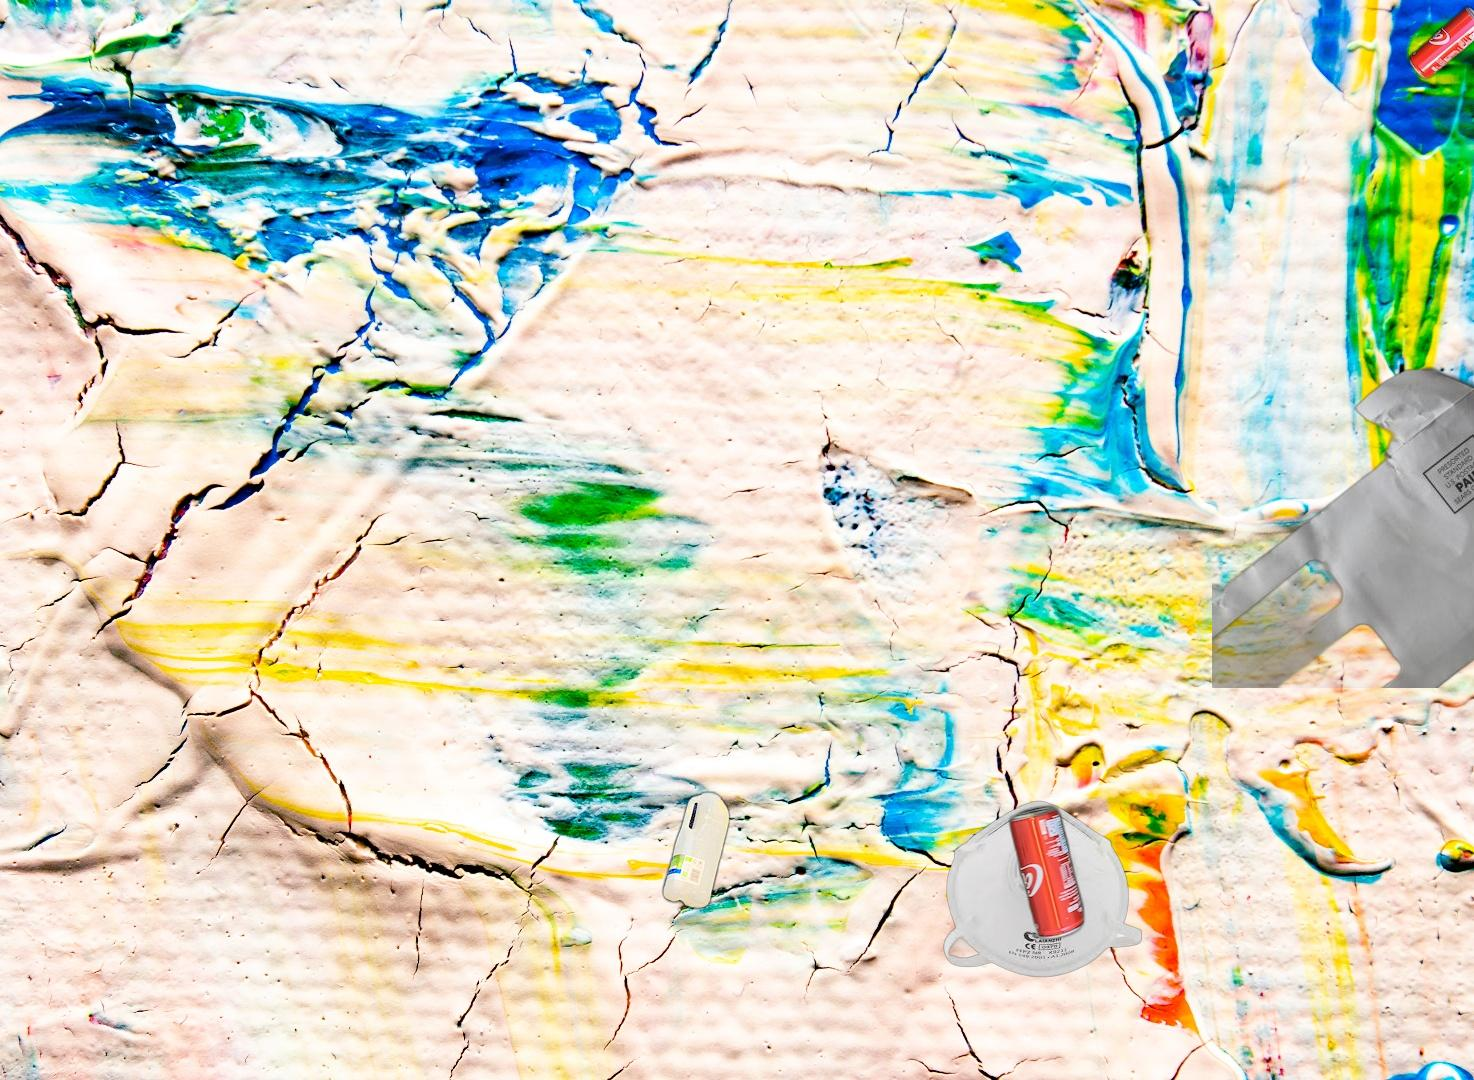metal-cans: (1005, 801, 1089, 945), (1405, 0, 1474, 84)
paper: (1212, 364, 1474, 688)
plastic-bottles: (659, 786, 735, 914)
trash: (941, 799, 1146, 980)
